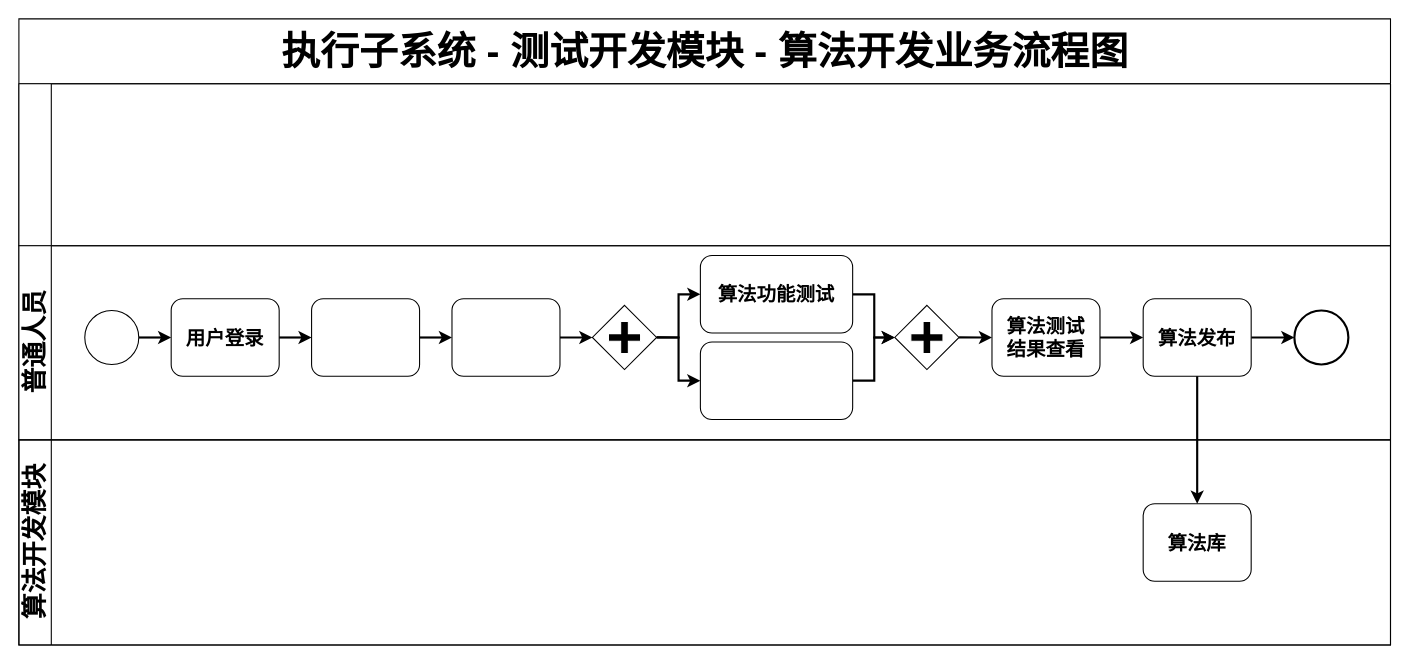
The diagram is 1409 pixels wide and 664 high, and some of its shapes have lost their labels. The centre of each missing label's shape, as x and y in pixels:
"测试对象 选择" belongs at point 505,337.
"算法兼容性测试" belongs at point 776,380.
"算法脚本 上传" belongs at point 365,337.
"系统管理员" belongs at point 704,164.
